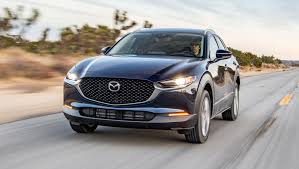car: (62, 27, 243, 145)
